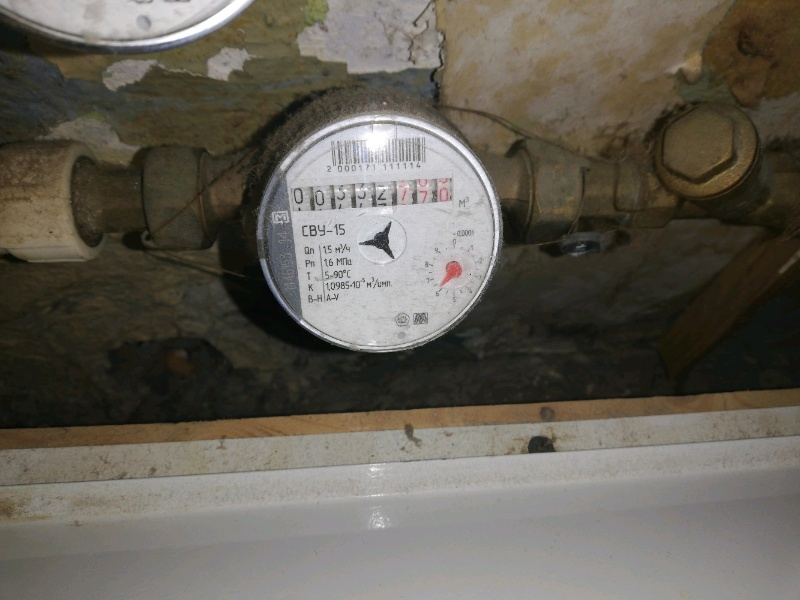dial: (284, 177, 456, 208)
